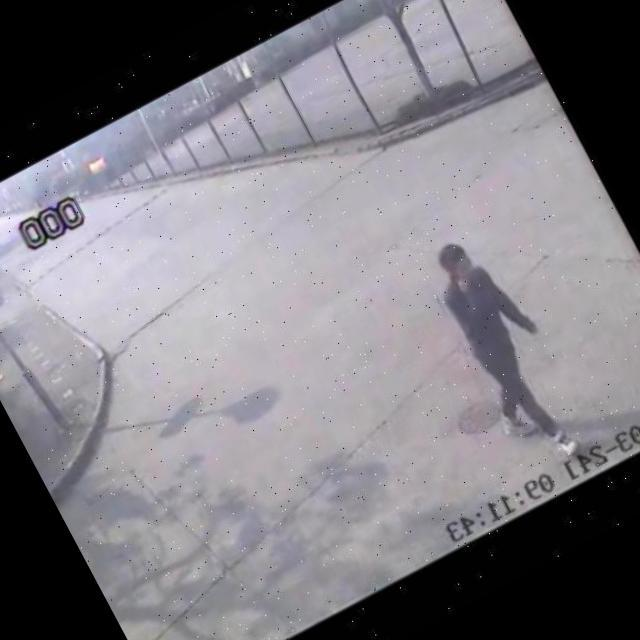person: (380, 196, 614, 499)
